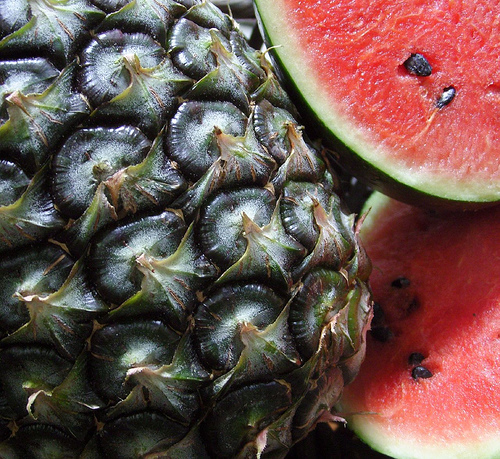pineapple: (1, 1, 377, 457)
